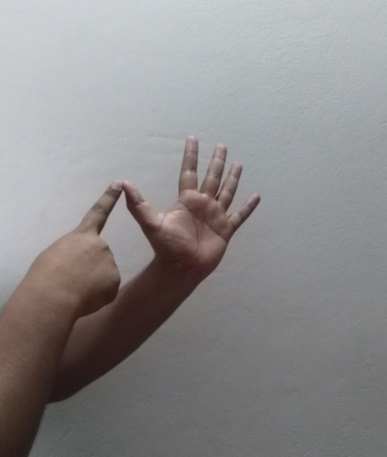a: (67, 133, 264, 336)
